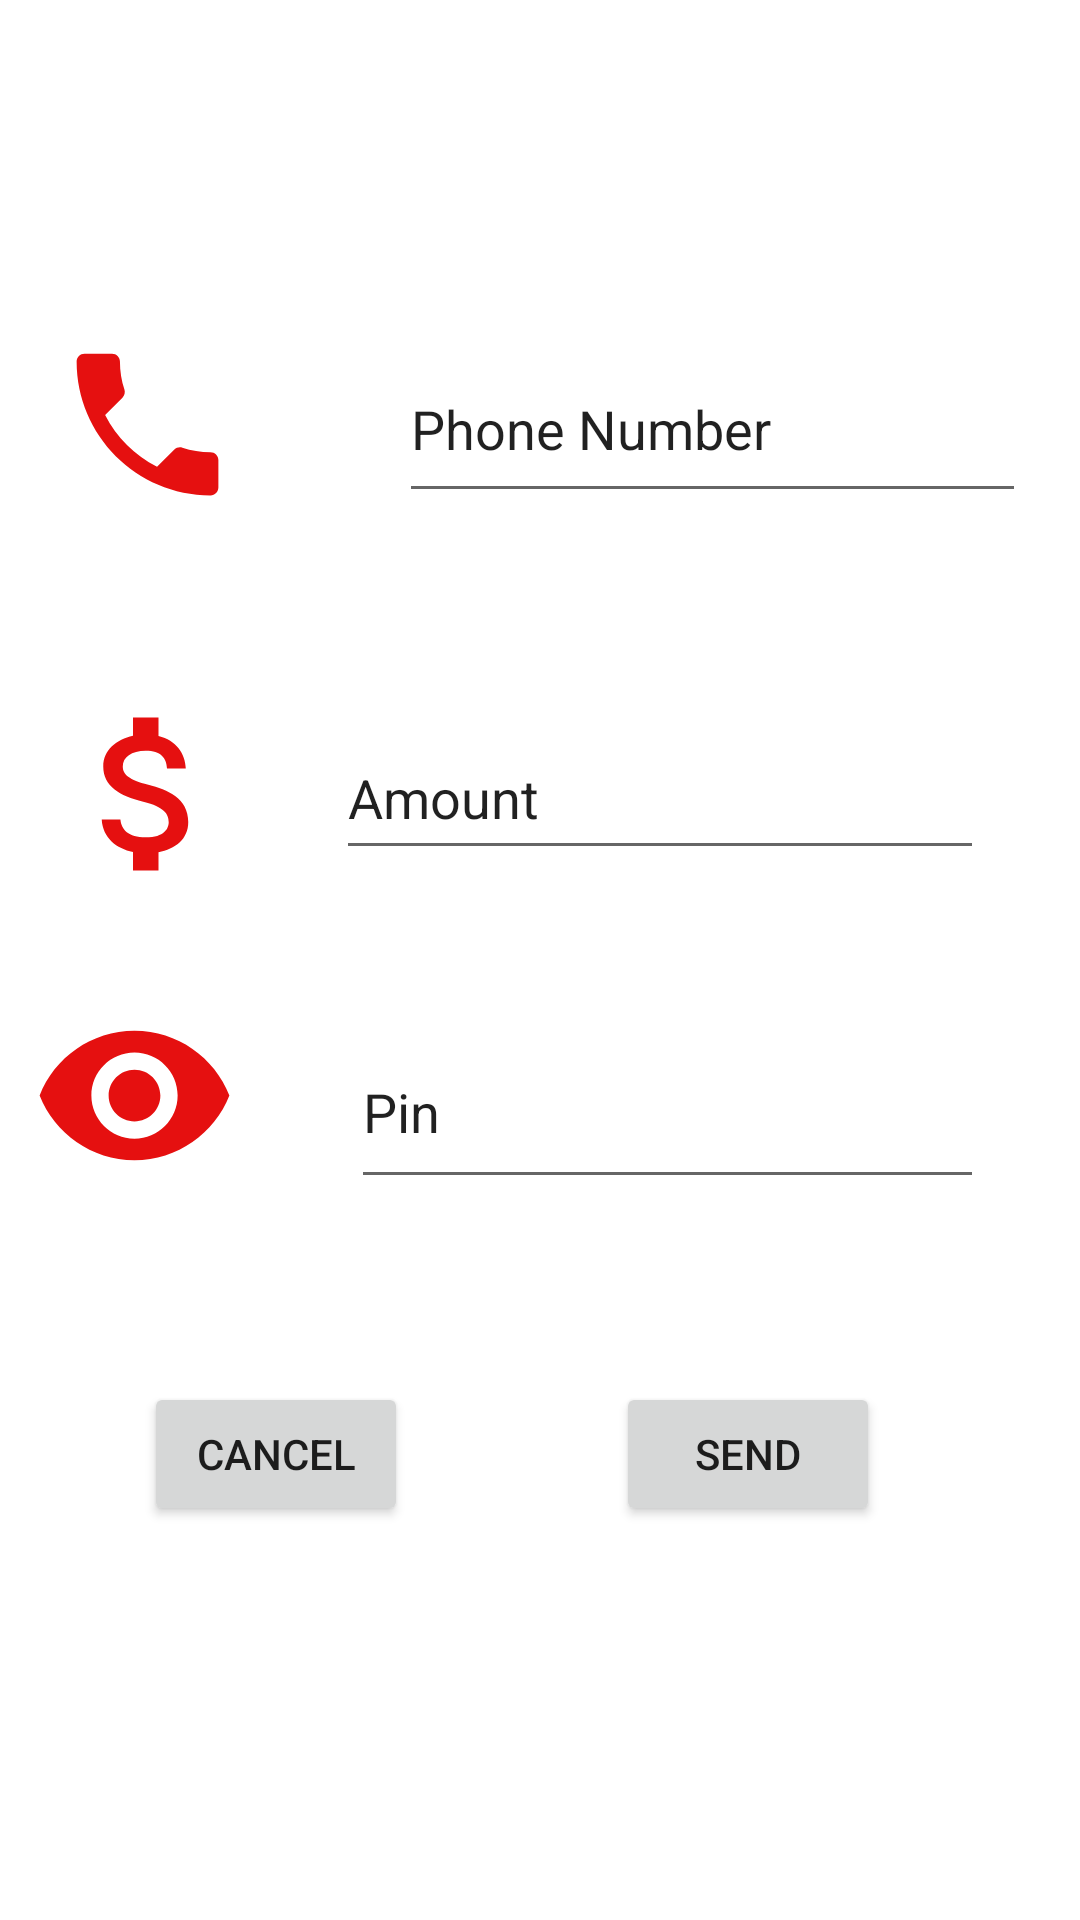

Icons on this 1080 × 1920 Android screen, each with the point to tap as [x,y]:
attach money: [145,794]
local phone: [147,424]
